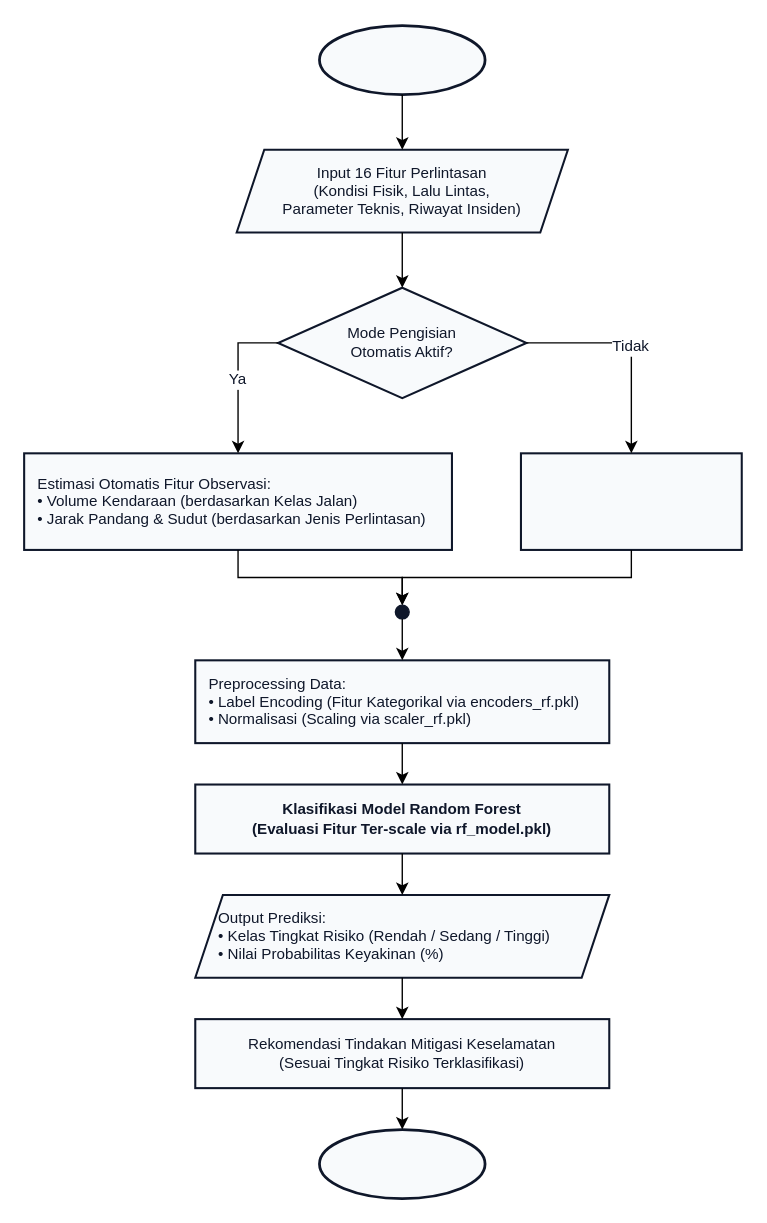
Some shapes in this 767 by 1223 pixel diagram are drawn without their labels. Here are the shapes that lost their labels. From the top down, the centre of each, then its label:
At point (401, 59): "Mulai".
At point (630, 501): "Gunakan Input Manual dari Pengguna".
At point (401, 1163): "Selesai".
